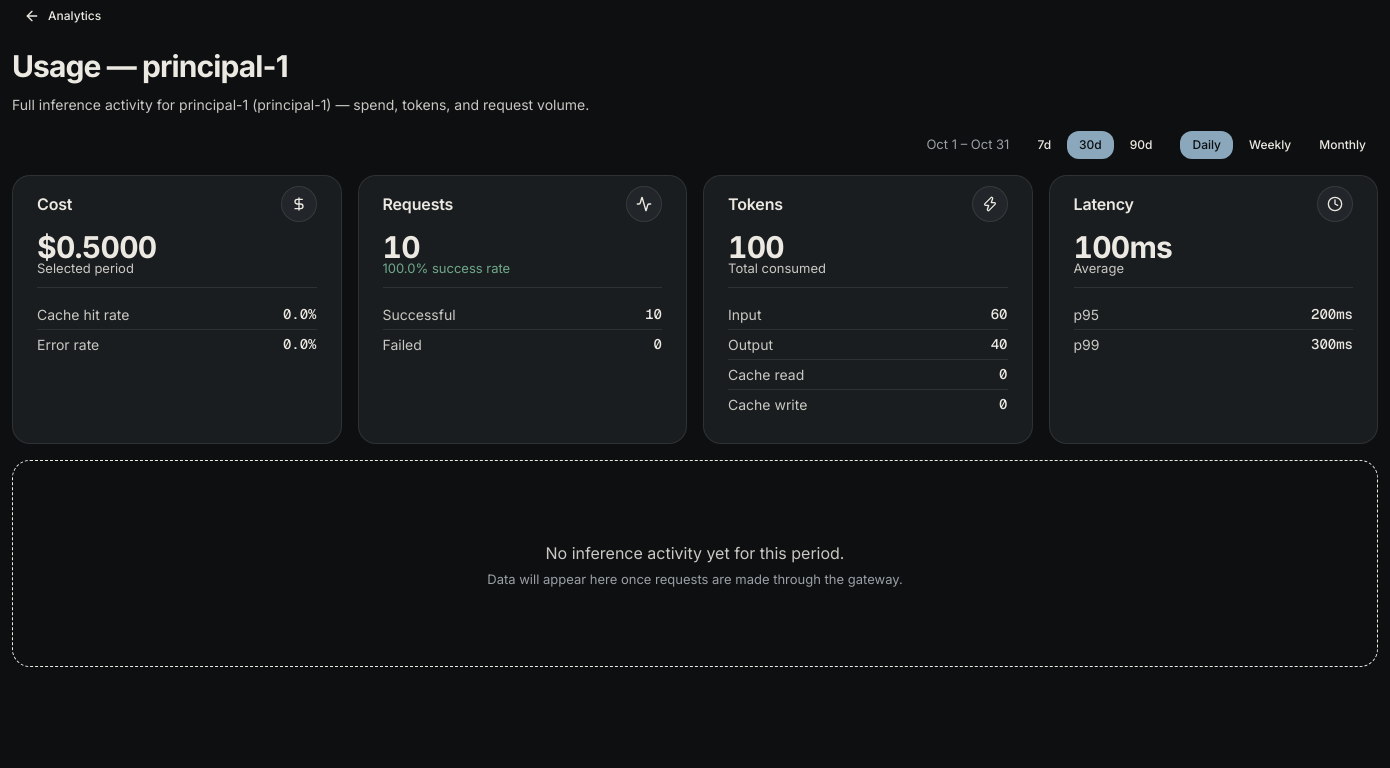
PrincipalUsageView — period controls drive a live refetch › shows the error banner and preserves the previous view when the refetch fails
The width and height of the screenshot is (1390, 768).
Click the button "Monthly".
click(1343, 144)  # box x1=1307 y1=130 x2=1378 y2=158
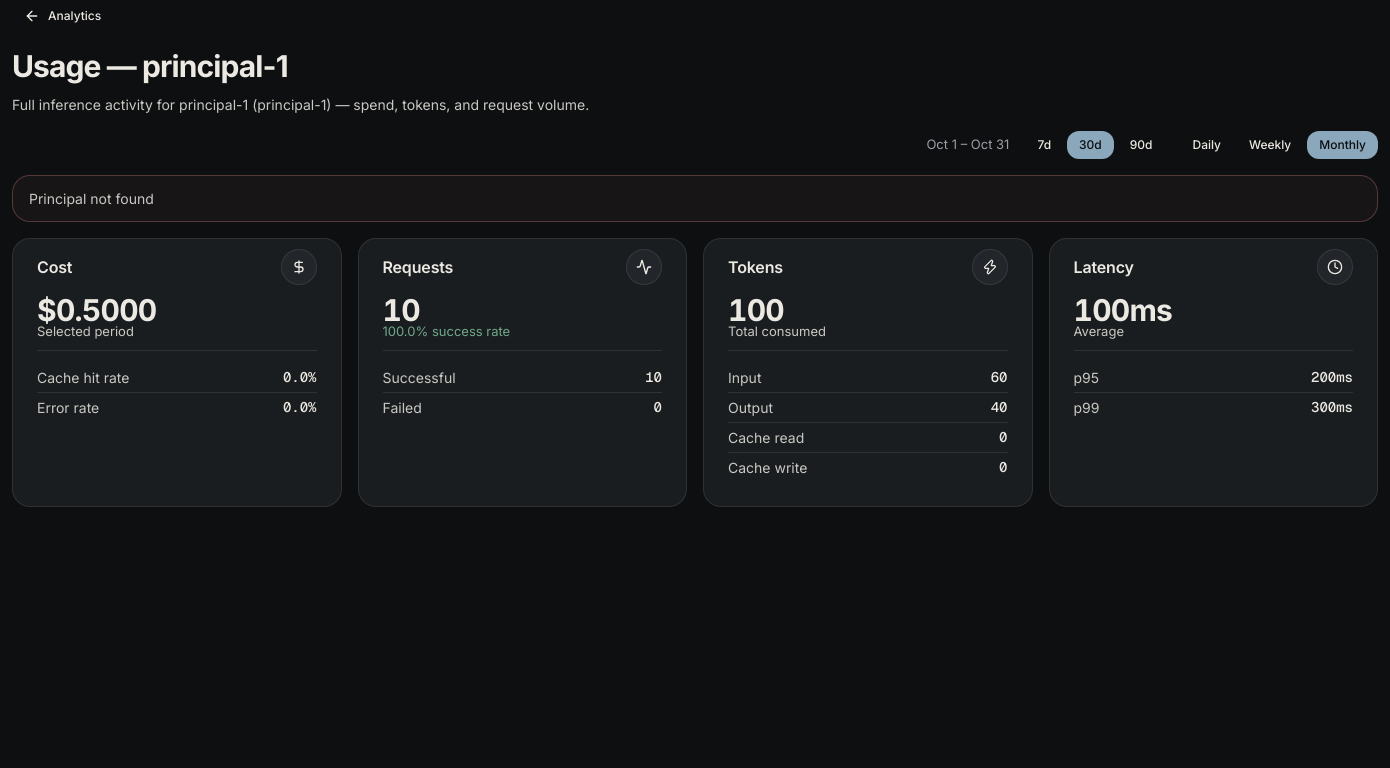
Check: the heading "Cost" is shown, box x1=37 y1=256 x2=72 y2=276
Check: the text "Principal not found" is shown, box x1=29 y1=190 x2=154 y2=206
